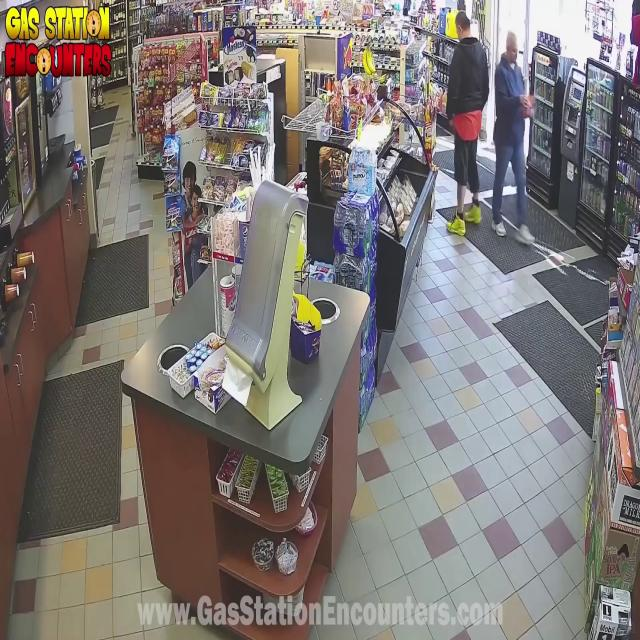Product: (518, 86, 538, 125)
normal: (438, 7, 488, 264)
shoplifting: (489, 21, 540, 237)
